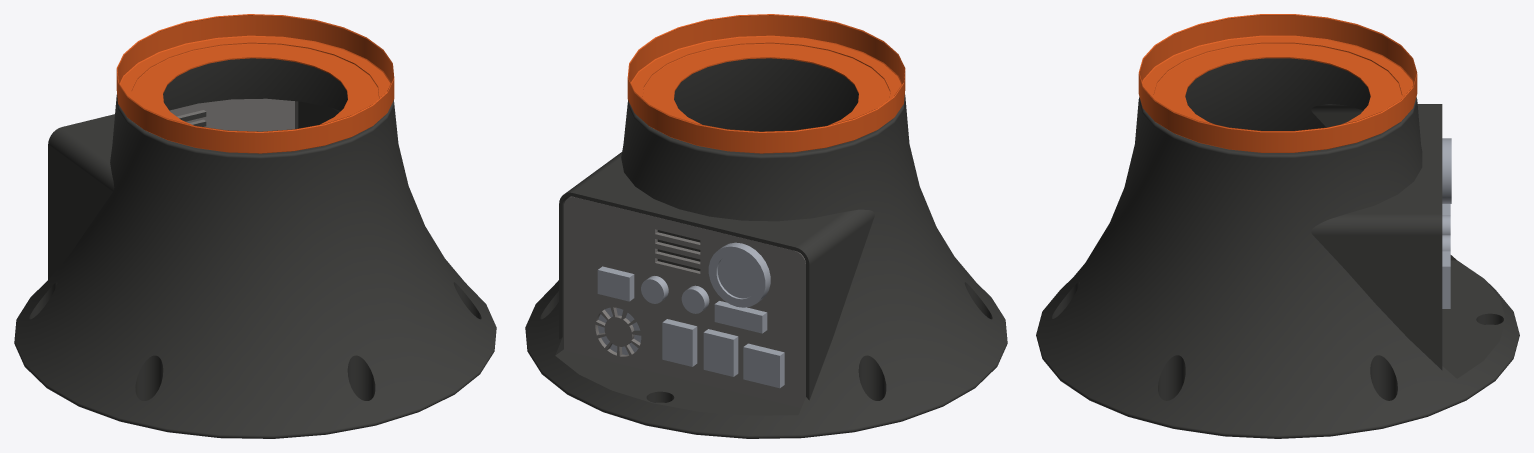
File: igus_REBEL_base.gltf
3 renders of one model, left to right at view 1: azimuth 30°, elevation 25°; view 2: azimuth 150°, elevation 25°; view 3: azimuth 270°, elevation 25°, orthographic.
Parts seen in each view (by area): view 1: ReBel.079; view 2: ReBel.079; view 3: ReBel.079.
Part boxes in pixels (left/top/right/bottom): ReBel.079: left=14, top=14, right=496, bottom=438; ReBel.079: left=525, top=14, right=1007, bottom=438; ReBel.079: left=1036, top=14, right=1519, bottom=438.
Size of the model in its own units: 0.1824 by 0.1103 by 0.1824.
